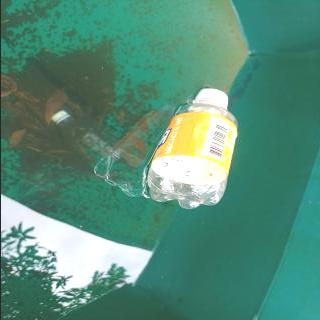bottle: (144, 87, 240, 209)
